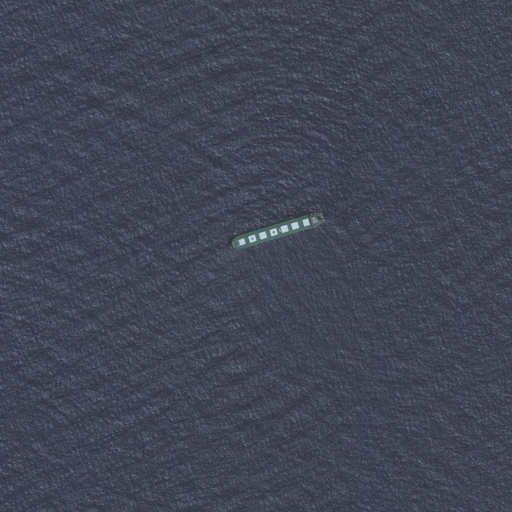ship: (229, 210, 328, 254)
